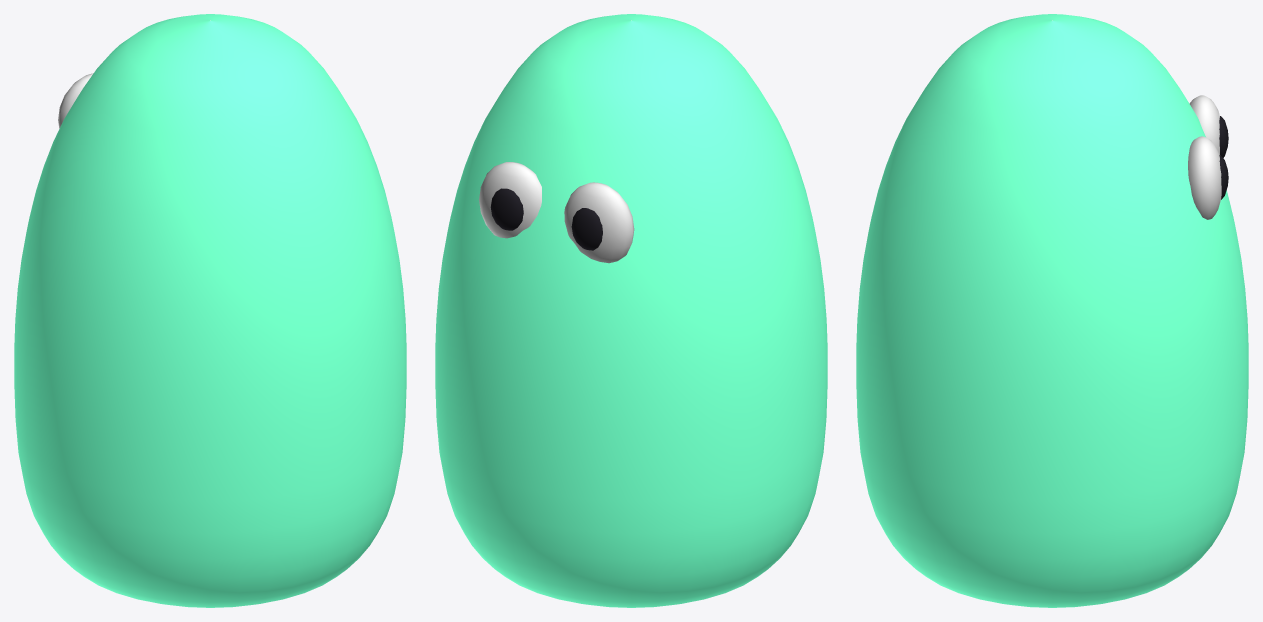
The model's file is jelly.glb.
3 views of the same model, side by side, from view 1: azimuth 30°, elevation 25°; view 2: azimuth 150°, elevation 25°; view 3: azimuth 270°, elevation 25° (orthographic).
Parts seen in each view (by area): view 1: jelly_body, jelly_eyes; view 2: jelly_body, jelly_eyes; view 3: jelly_body, jelly_eyes.
Boxes of the visible parts, x1,y1,x2,y2 form: jelly_body: [14, 14, 406, 607]; jelly_eyes: [58, 73, 93, 128]; jelly_body: [435, 14, 827, 607]; jelly_eyes: [479, 162, 634, 263]; jelly_body: [856, 14, 1248, 607]; jelly_eyes: [1188, 95, 1228, 219].
Size of the model in its own units: 1.05 by 1.59 by 1.05.
